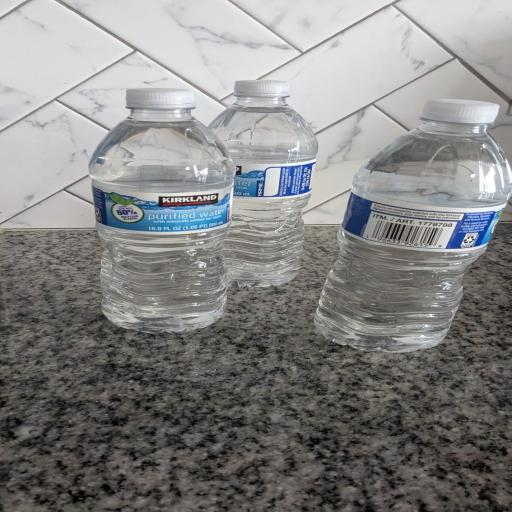waterbottle: (315, 100, 511, 351), (90, 89, 234, 332), (210, 81, 317, 287)
